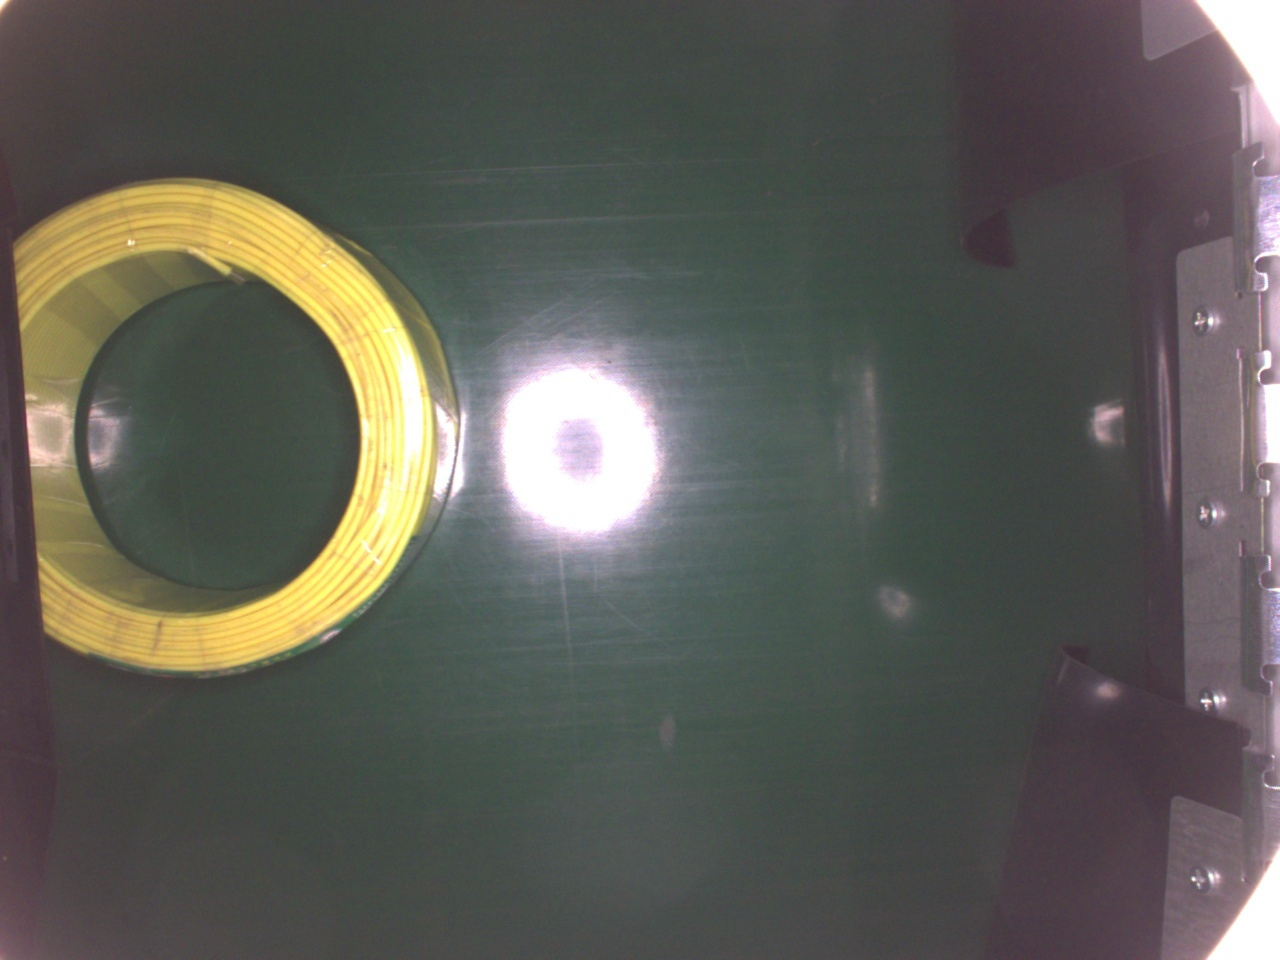yellow: (7, 176, 462, 681)
